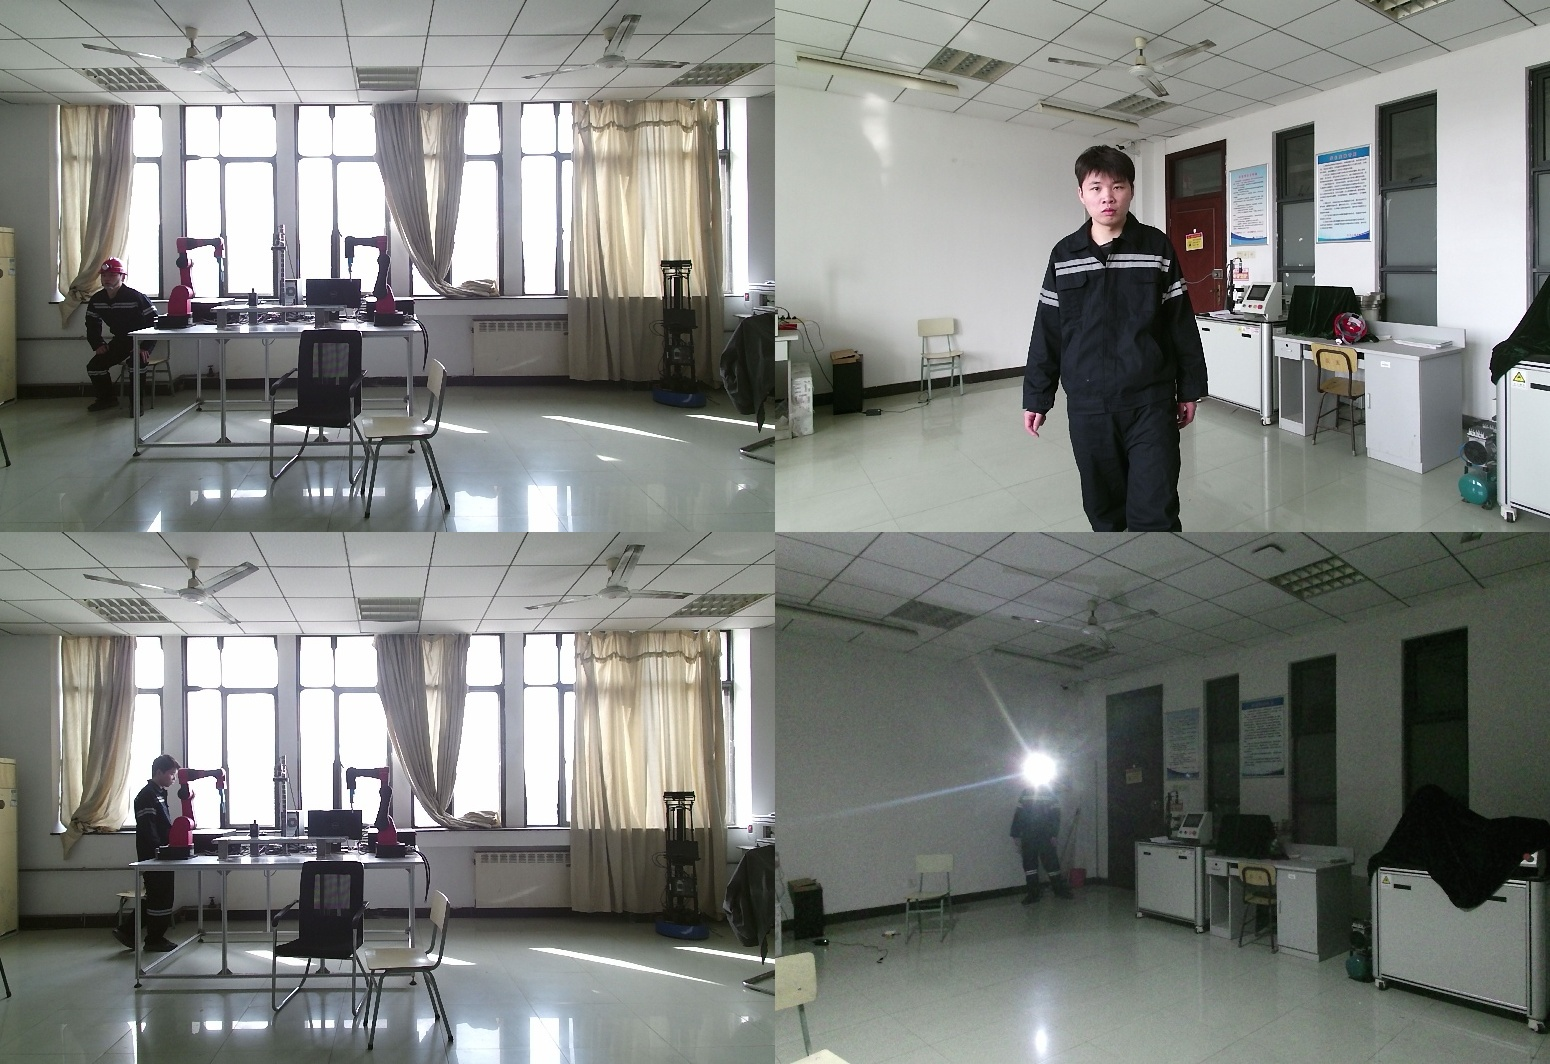person: (1023, 146, 1223, 532), (118, 753, 193, 959), (75, 259, 161, 413), (1014, 764, 1071, 907)
